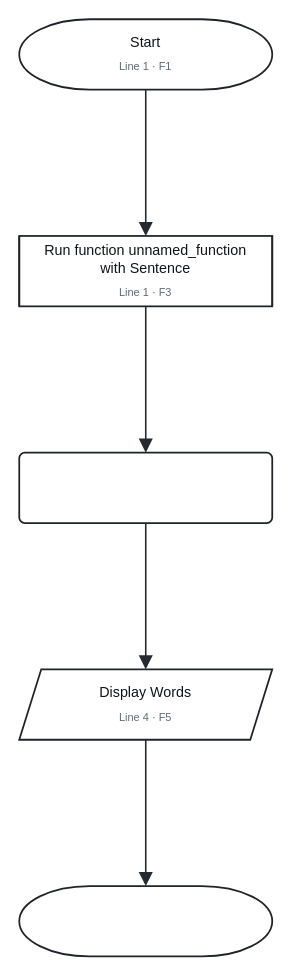
This 293x977 diagram has some shape labels left out. The shapes that lost their labels are listed below. From the top down, each one's box as (x1, y1, x2, y2) in pixels, then its label:
(18, 451, 273, 523): Set Words to the result of split_on_space(Sentence) Line 2 · F4
(18, 885, 273, 957): End Line 1 · F2
